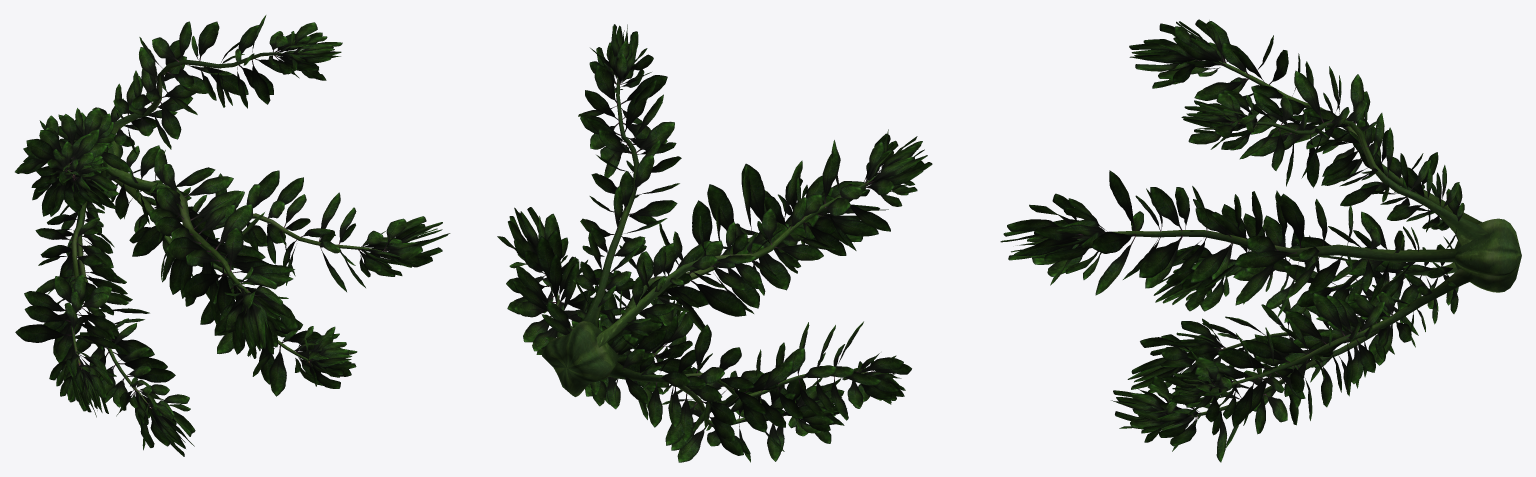
The model's file is Hydrilla_Med.fbx.
3 renders of one model, left to right at view 1: azimuth 30°, elevation 25°; view 2: azimuth 150°, elevation 25°; view 3: azimuth 270°, elevation 25°, orthographic. The views are drawn at different scales.
Parts seen in each view (by area): view 1: LOD0; view 2: LOD0; view 3: LOD0.
Boxes of the visible parts, x1,y1,x2,y2 form: LOD0: [15, 15, 450, 456]; LOD0: [497, 24, 932, 462]; LOD0: [1000, 19, 1521, 462].
Bounding box in the file's own units: 3.64 × 3.13 × 3.89.
